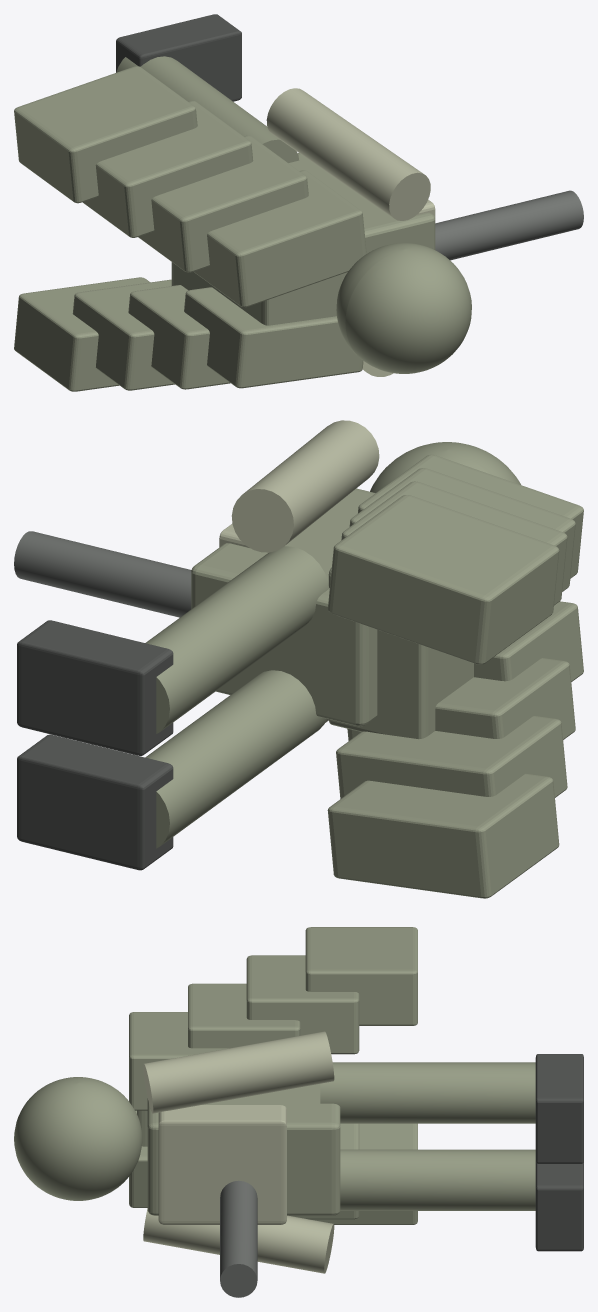
File: v-u07-vanguard-infiltrator-lod1.glb
3 renders of one model, top to bottom at view 1: azimuth 30°, elevation 25°; view 2: azimuth 150°, elevation 25°; view 3: azimuth 270°, elevation 25°, orthographic. The views are drawn at different scales.
Parts seen in each view (by area): view 1: cloak_1_3, soldier_0_helmet, cloak_1_0, cloak_-1_0, cloak_1_1, cloak_1_2, soldier_0_arm_1, cloak_-1_3, soldier_0_boot_1, cloak_-1_2, soldier_0_rifle, cloak_-1_1 (+3 smaller); view 2: cloak_1_3, cloak_-1_3, soldier_0_boot_1, soldier_0_boot_-1, soldier_0_leg_1, soldier_0_leg_-1, soldier_0_torso, cloak_-1_2, soldier_0_arm_1, soldier_0_rifle, cloak_-1_1, soldier_0_backpack (+5 smaller); view 3: soldier_0_chest, soldier_0_leg_1, soldier_0_helmet, soldier_0_leg_-1, soldier_0_arm_1, cloak_1_3, soldier_0_torso, cloak_1_2, soldier_0_arm_-1, soldier_0_boot_1, cloak_1_1, soldier_0_boot_-1 (+5 smaller).
Part boxes in pixels (box(x1,y1,x2,y2)): cloak_1_3: box(14, 66, 197, 203); soldier_0_helmet: box(336, 243, 471, 373); cloak_1_0: box(194, 170, 366, 307); cloak_-1_0: box(184, 287, 363, 388); cloak_1_1: box(138, 135, 308, 272); cloak_1_2: box(82, 101, 253, 237); soldier_0_arm_1: box(266, 88, 430, 220); cloak_-1_3: box(14, 277, 149, 391); soldier_0_boot_1: box(116, 14, 241, 101); cloak_-1_2: box(72, 279, 174, 390); soldier_0_rifle: box(435, 190, 583, 260); cloak_-1_1: box(128, 285, 230, 389); cloak_1_3: box(327, 495, 559, 664); cloak_-1_3: box(327, 773, 559, 898); soldier_0_boot_1: box(17, 620, 173, 755); soldier_0_boot_-1: box(17, 734, 173, 870); soldier_0_leg_1: box(145, 546, 328, 733); soldier_0_leg_-1: box(145, 670, 326, 848); soldier_0_torso: box(191, 488, 377, 726); cloak_-1_2: box(336, 716, 567, 798); soldier_0_arm_1: box(231, 420, 379, 552); soldier_0_rifle: box(14, 531, 191, 617); cloak_-1_1: box(347, 658, 575, 740); soldier_0_backpack: box(328, 567, 473, 739); soldier_0_chest: box(158, 1105, 286, 1224); soldier_0_leg_1: box(320, 1062, 535, 1123); soldier_0_helmet: box(14, 1077, 142, 1200); soldier_0_leg_-1: box(340, 1149, 535, 1210); soldier_0_arm_1: box(143, 1031, 334, 1113); cloak_1_3: box(305, 927, 417, 1025); soldier_0_torso: box(147, 1084, 340, 1215); cloak_1_2: box(246, 955, 359, 1054); soldier_0_arm_-1: box(143, 1208, 334, 1273); soldier_0_boot_1: box(535, 1054, 583, 1163); cloak_1_1: box(188, 983, 300, 1048); soldier_0_boot_-1: box(535, 1160, 583, 1251).
Size of what is drawn, in the model's own units: 1.91 by 1.05 by 2.13.
